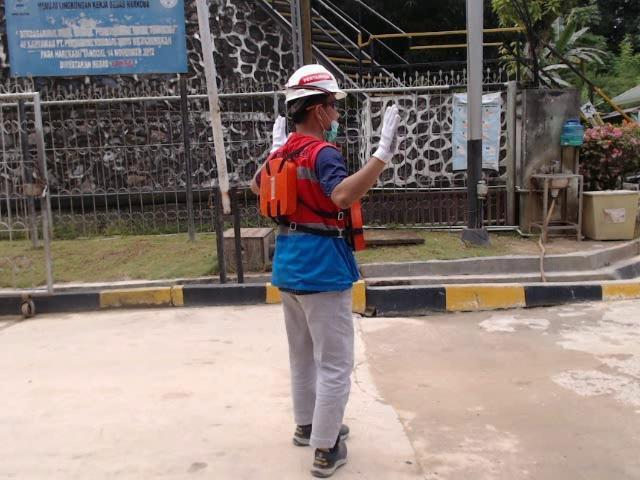vest: (257, 156, 375, 254)
